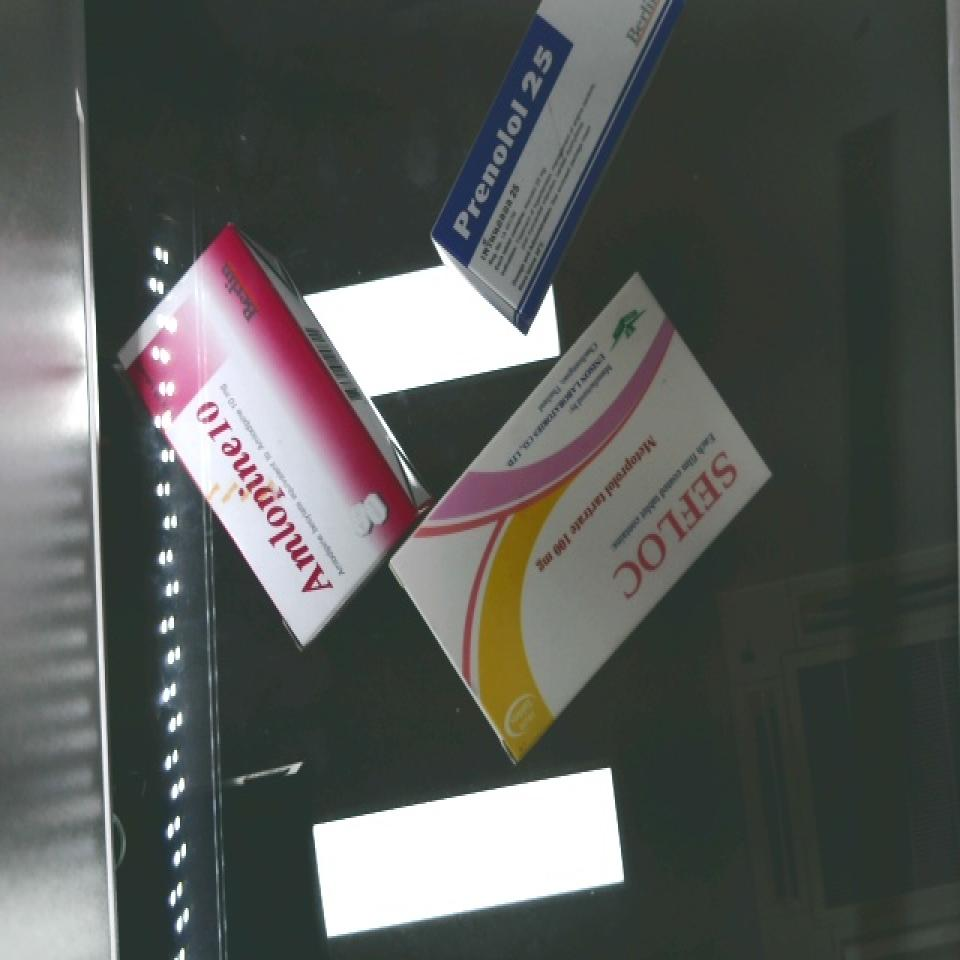medicine_box: (336, 268, 816, 767), (83, 220, 452, 653), (410, 0, 684, 326)
medicine_label_obb: (164, 379, 356, 626), (579, 422, 779, 632), (424, 20, 578, 266)
